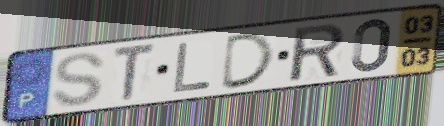0: (349, 17, 394, 74)
D: (218, 30, 278, 93)
L: (170, 40, 214, 95)
R: (289, 21, 348, 84)
S: (50, 51, 108, 109)
T: (111, 41, 158, 105)
